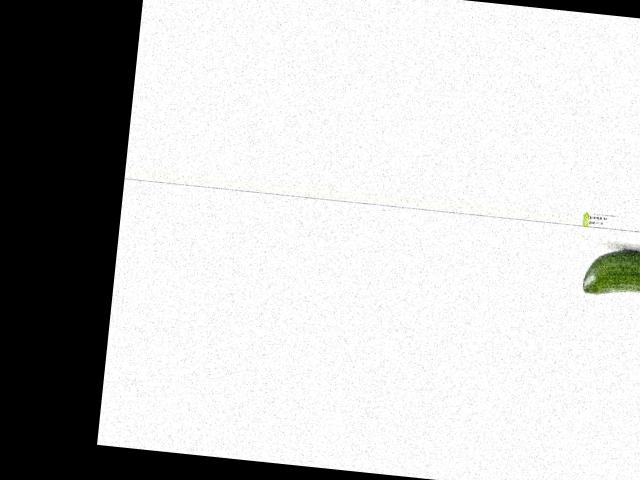cucumber: (582, 245, 640, 303)
